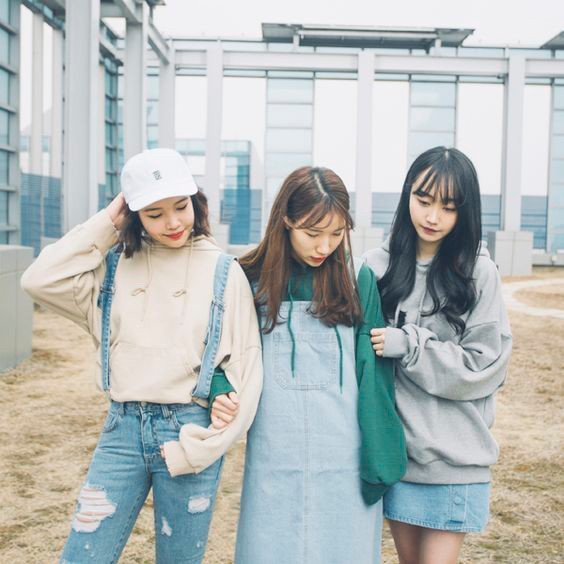people: (93, 143, 223, 558), (260, 160, 366, 564), (394, 146, 481, 564)
